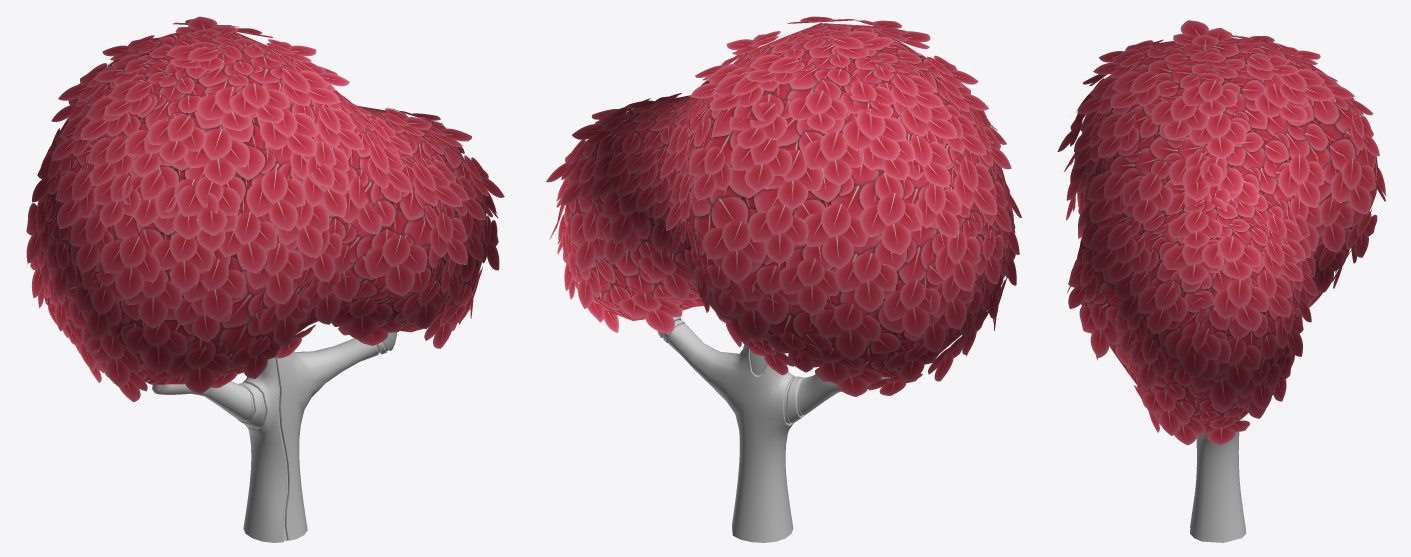
Rendered from SM_Tree2_KN.fbx.
3 views of the same model, side by side, from view 1: azimuth 30°, elevation 25°; view 2: azimuth 150°, elevation 25°; view 3: azimuth 270°, elevation 25° (orthographic). The views are drawn at different scales.
Parts seen in each view (by area): view 1: Cube.002, Cube; view 2: Cube.002, Cube; view 3: Cube.002, Cube.
Part boxes in pixels (x1,y1,x2,y2): Cube.002: (26,16,504,402); Cube: (152,332,397,542); Cube.002: (546,16,1021,396); Cube: (657,316,890,542); Cube.002: (1057,20,1386,445); Cube: (1190,420,1246,542).
Size of the model in its own units: 948 by 1022 by 690.
